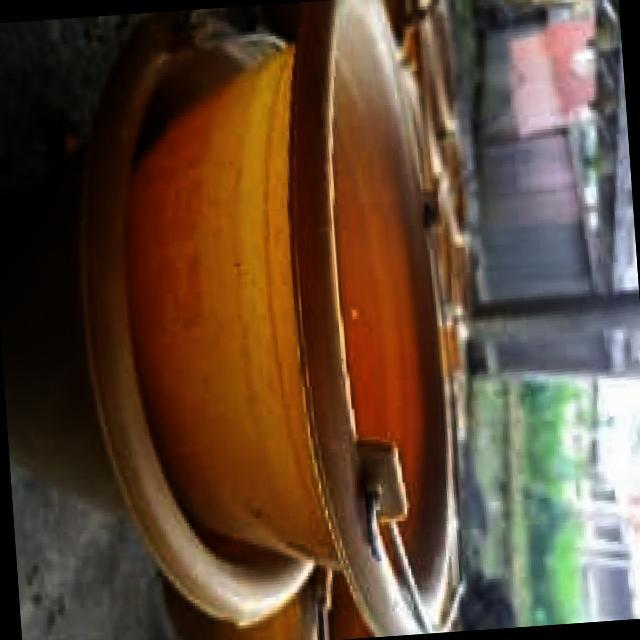HDPE Plastic: (132, 2, 454, 620), (4, 3, 324, 619)
